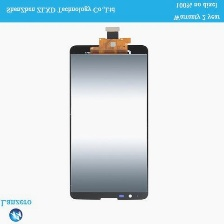phone: (65, 43, 150, 203)
